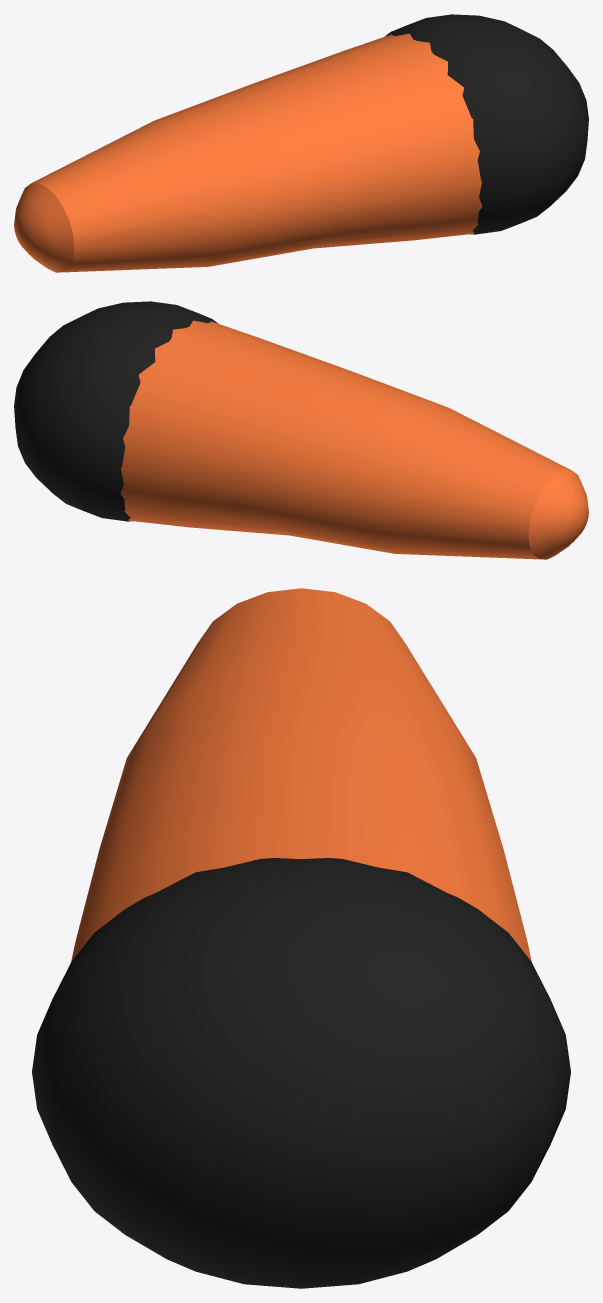
File: cha_fox_leftarm.obj
3 views of the same model, one above another, from view 1: azimuth 30°, elevation 25°; view 2: azimuth 150°, elevation 25°; view 3: azimuth 270°, elevation 25° (orthographic). The views are drawn at different scales.
Parts seen in each view (by area): view 1: leftarm2 pCylinder1, pSphere9 leftarm2; view 2: leftarm2 pCylinder1, pSphere9 leftarm2; view 3: pSphere9 leftarm2, leftarm2 pCylinder1.
Boxes of the visible parts, x1,y1,x2,y2 form: leftarm2 pCylinder1: (14, 33, 482, 272); pSphere9 leftarm2: (384, 14, 588, 234); leftarm2 pCylinder1: (120, 320, 588, 559); pSphere9 leftarm2: (14, 301, 218, 521); pSphere9 leftarm2: (32, 858, 570, 1288); leftarm2 pCylinder1: (71, 588, 531, 961).
Size of the model in its own units: 0.8339 by 0.2771 by 0.3533.
